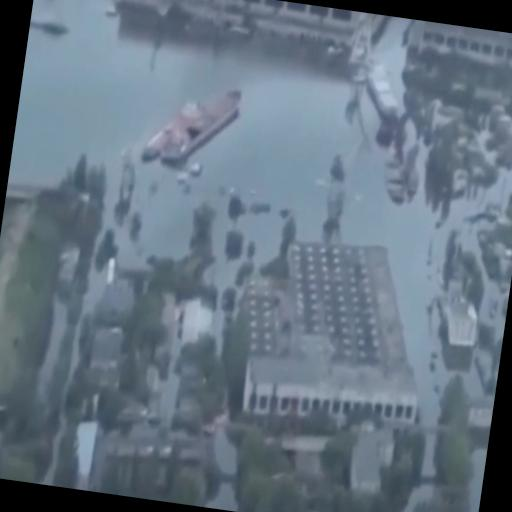flood: (7, 0, 434, 425), (396, 117, 512, 338), (204, 201, 290, 302), (368, 15, 417, 116), (429, 336, 484, 398), (205, 426, 238, 512), (402, 428, 435, 512), (470, 450, 487, 512)
house: (218, 224, 442, 456), (114, 0, 359, 50), (407, 19, 512, 80), (343, 424, 394, 498), (433, 288, 484, 360), (463, 394, 495, 432)
